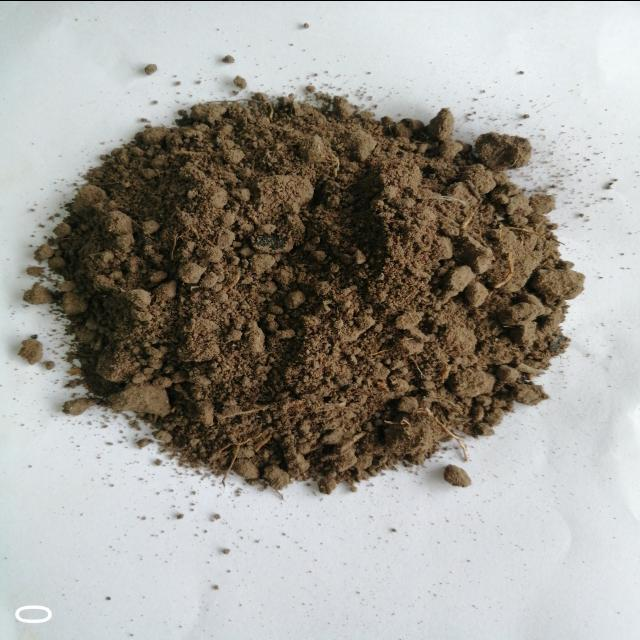soil: (139, 175, 453, 414)
